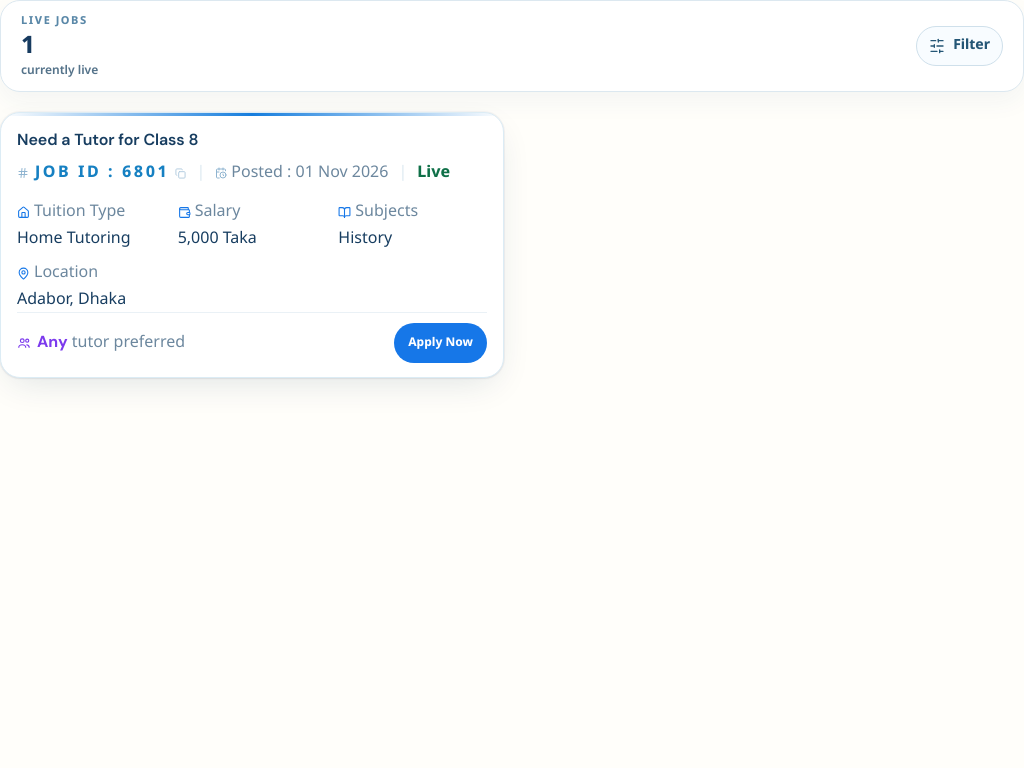
it: sharing a tuition from the Job Board › copies link and provides checkmark feedback when Copy Link is clicked in details popover
The width and height of the screenshot is (1024, 768).
What coordinates should you click on to do the following:
click the button with aria-label "Job ID 6801"
I would click on:
 (252, 245)
Its box is [0,112,504,378].
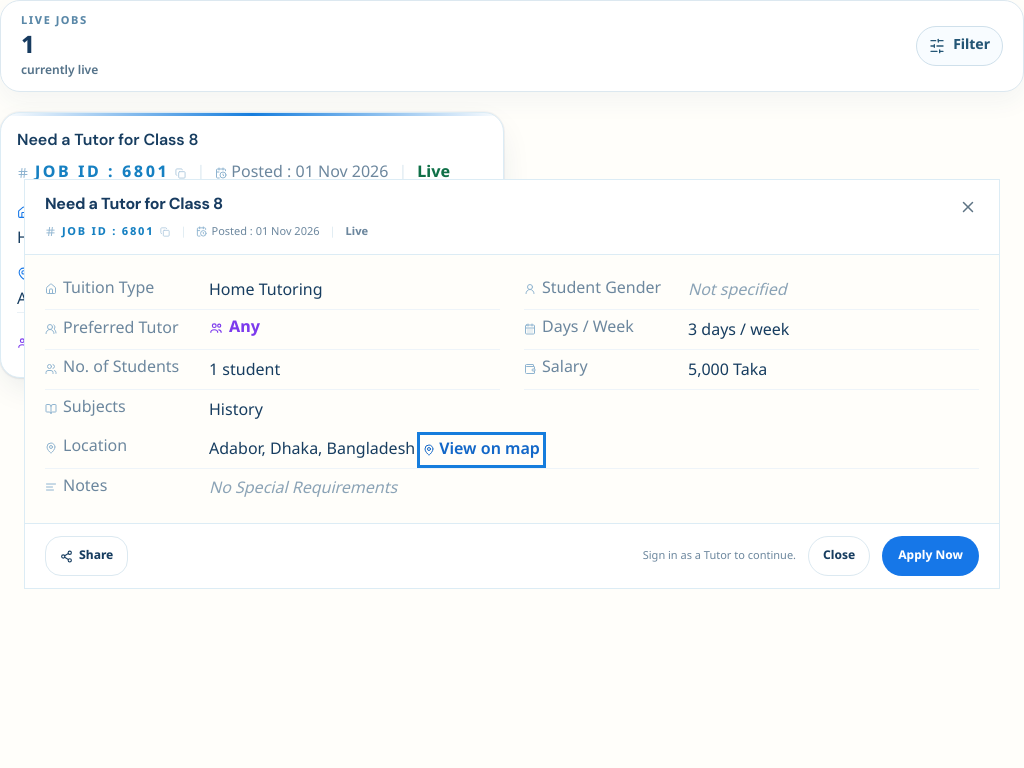
What coordinates should you click on to do the following:
click the button with aria-label "Share this tuition"
I would click on:
 (87, 556)
Its box is [45,536,128,576].
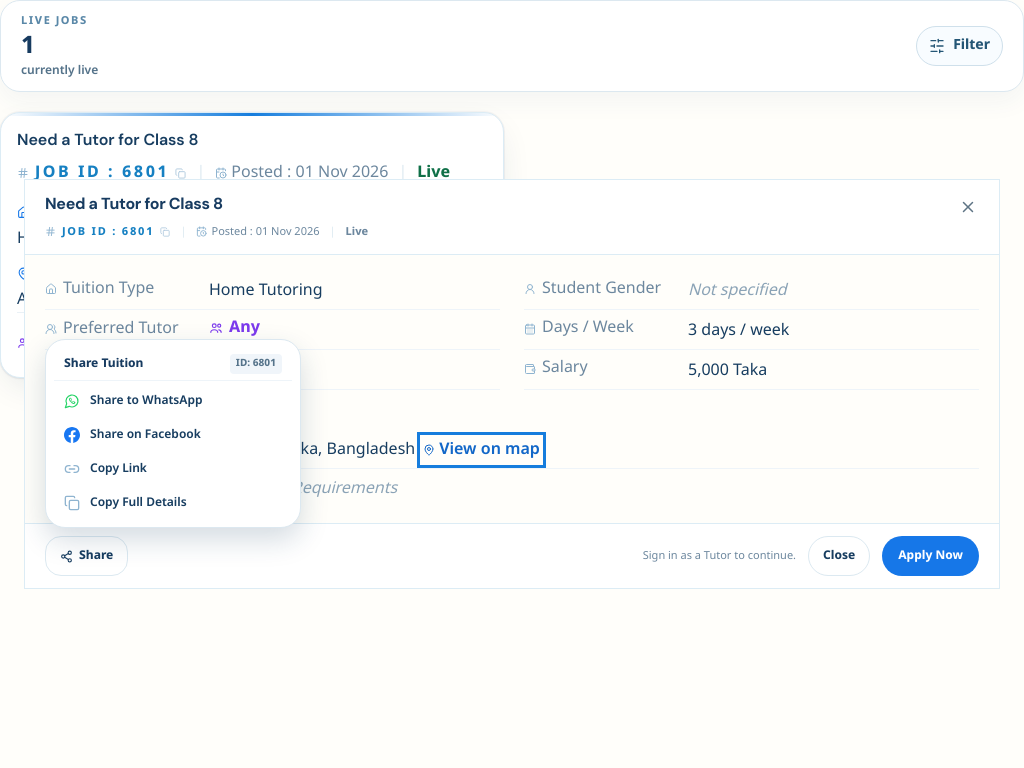
What coordinates should you click on to do the following:
click the button "Copy Link"
I would click on:
 (173, 469)
Its box is [54,453,292,485].
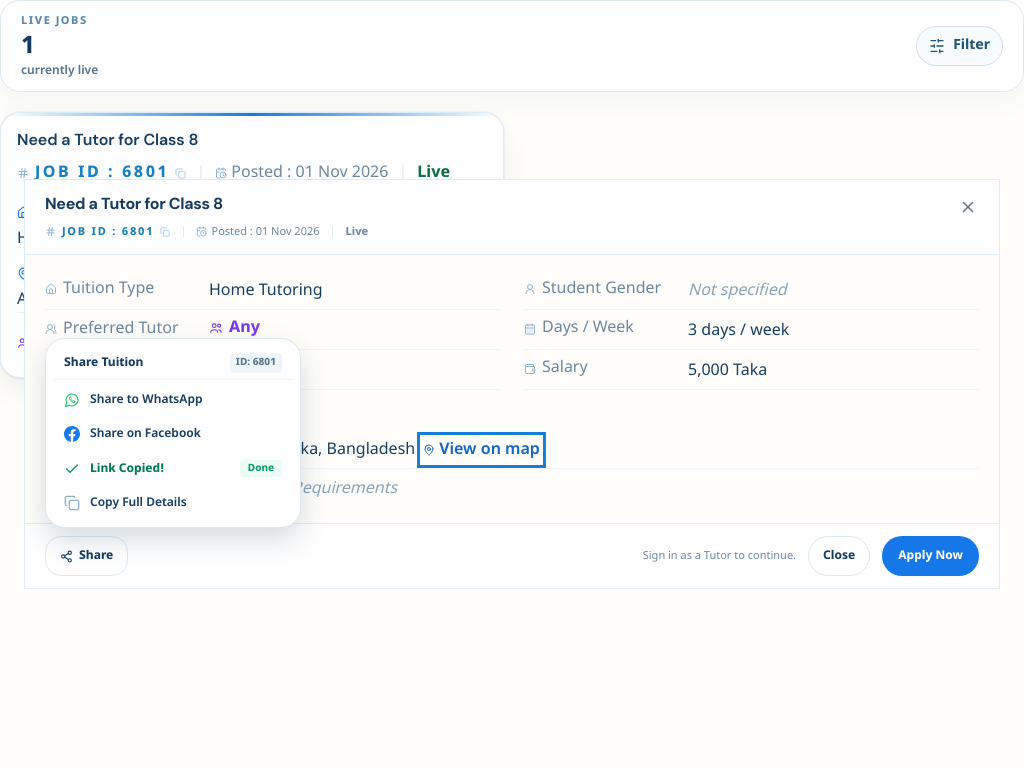
Now the text "Link Copied!" is shown, box [90,461,164,477]
